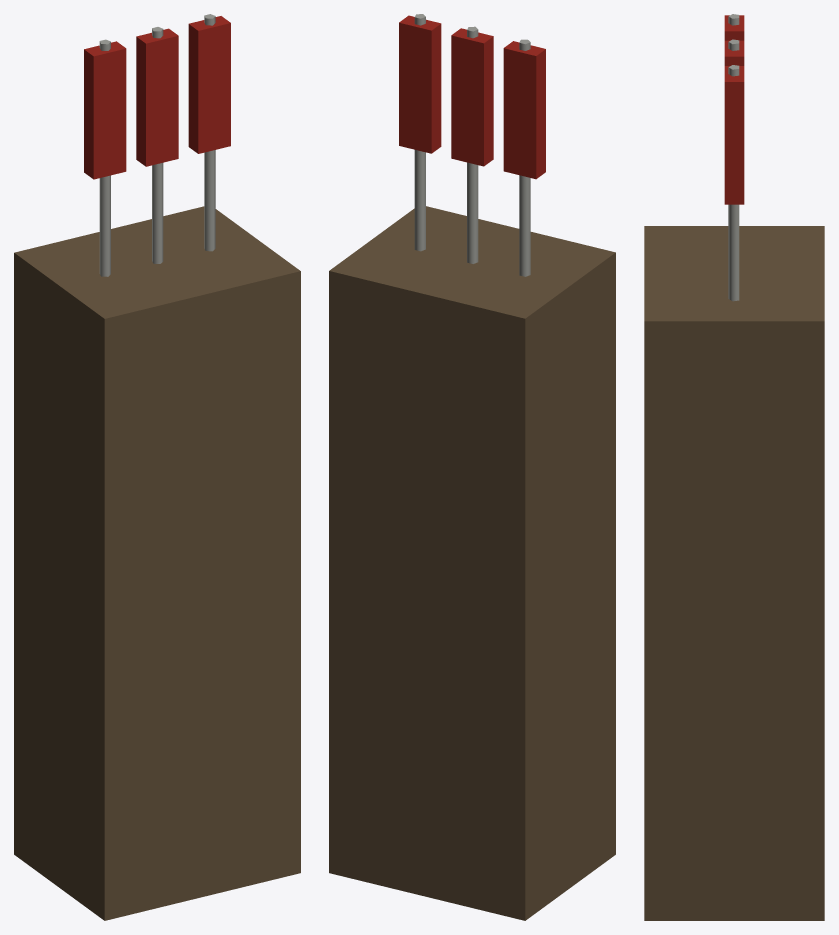
The picture shows the model from 3 angles, left to right: view 1: azimuth 30°, elevation 25°; view 2: azimuth 150°, elevation 25°; view 3: azimuth 270°, elevation 25°; orthographic projection.
Visible parts, largest first — view 1: weapon-arrow-quiver-painted; view 2: weapon-arrow-quiver-painted; view 3: weapon-arrow-quiver-painted.
Boxes of the visible parts, x1,y1,x2,y2 form: weapon-arrow-quiver-painted: [14, 14, 300, 920]; weapon-arrow-quiver-painted: [329, 14, 615, 920]; weapon-arrow-quiver-painted: [644, 14, 824, 920].
Bounding box in the file's own units: 0.7765 × 3.16 × 0.6212.
